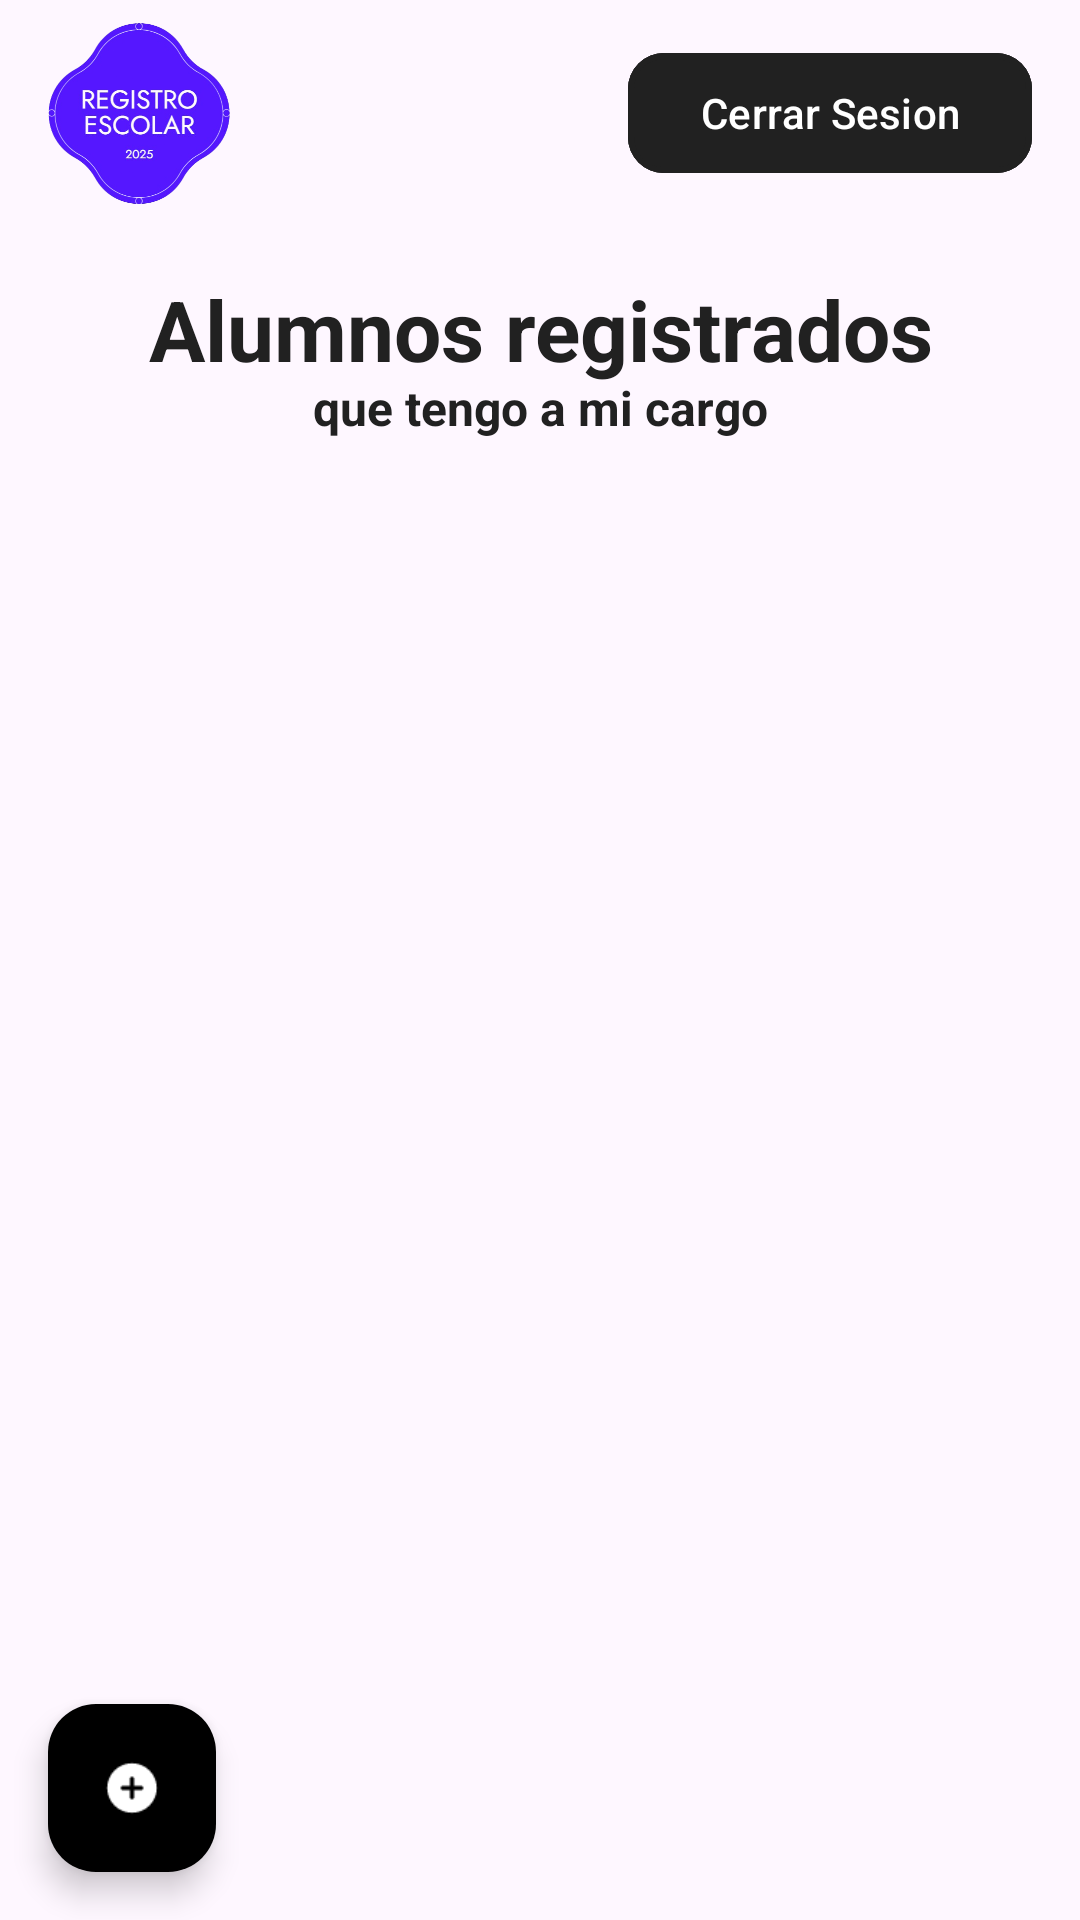

Locate icon controls on the screen. Image size 1080w x 1920h, boxes as (x1,y1,x2,y2).
add item: (48,1704,216,1872)
